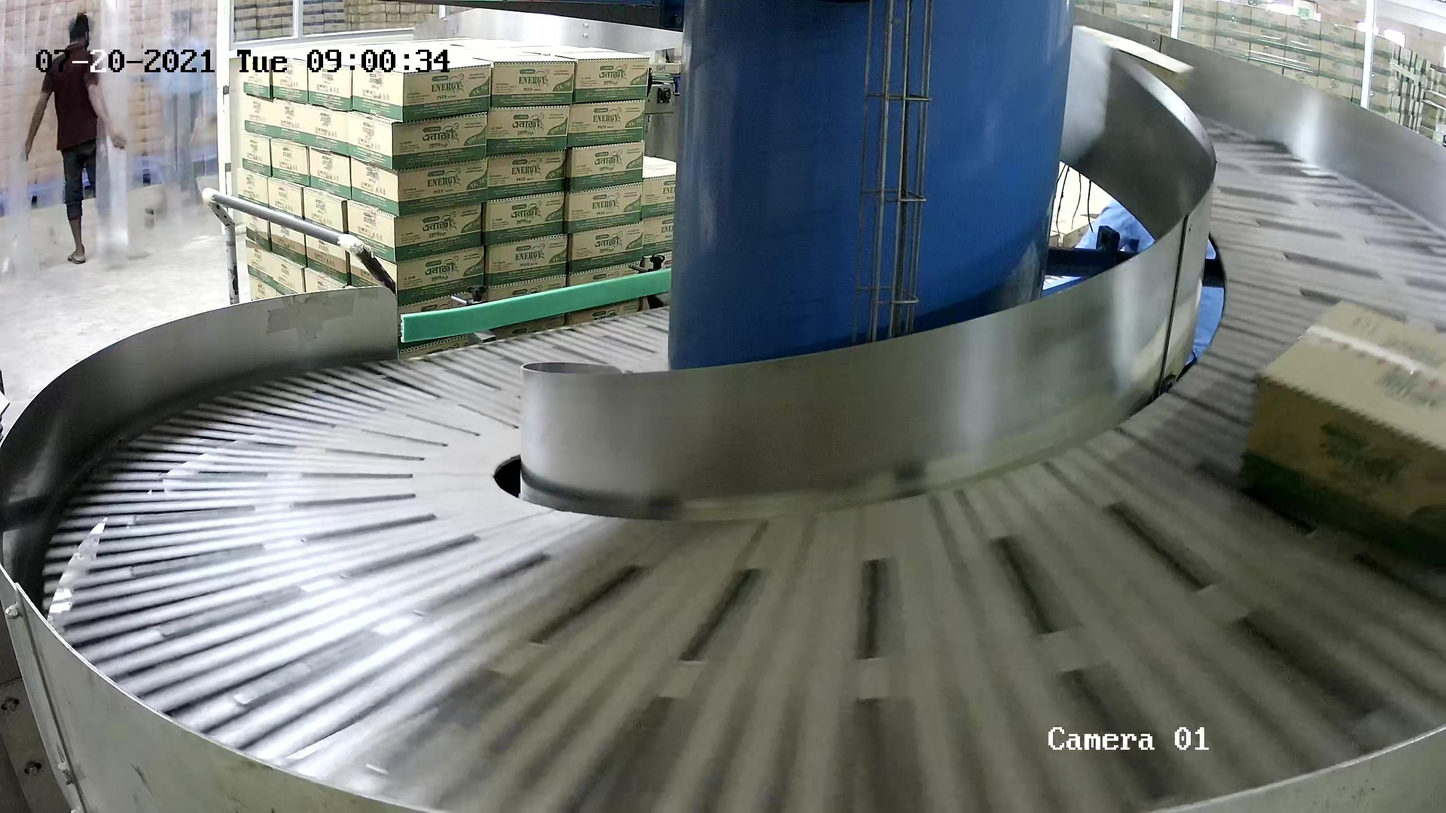Box: (1236, 294, 1446, 577)
